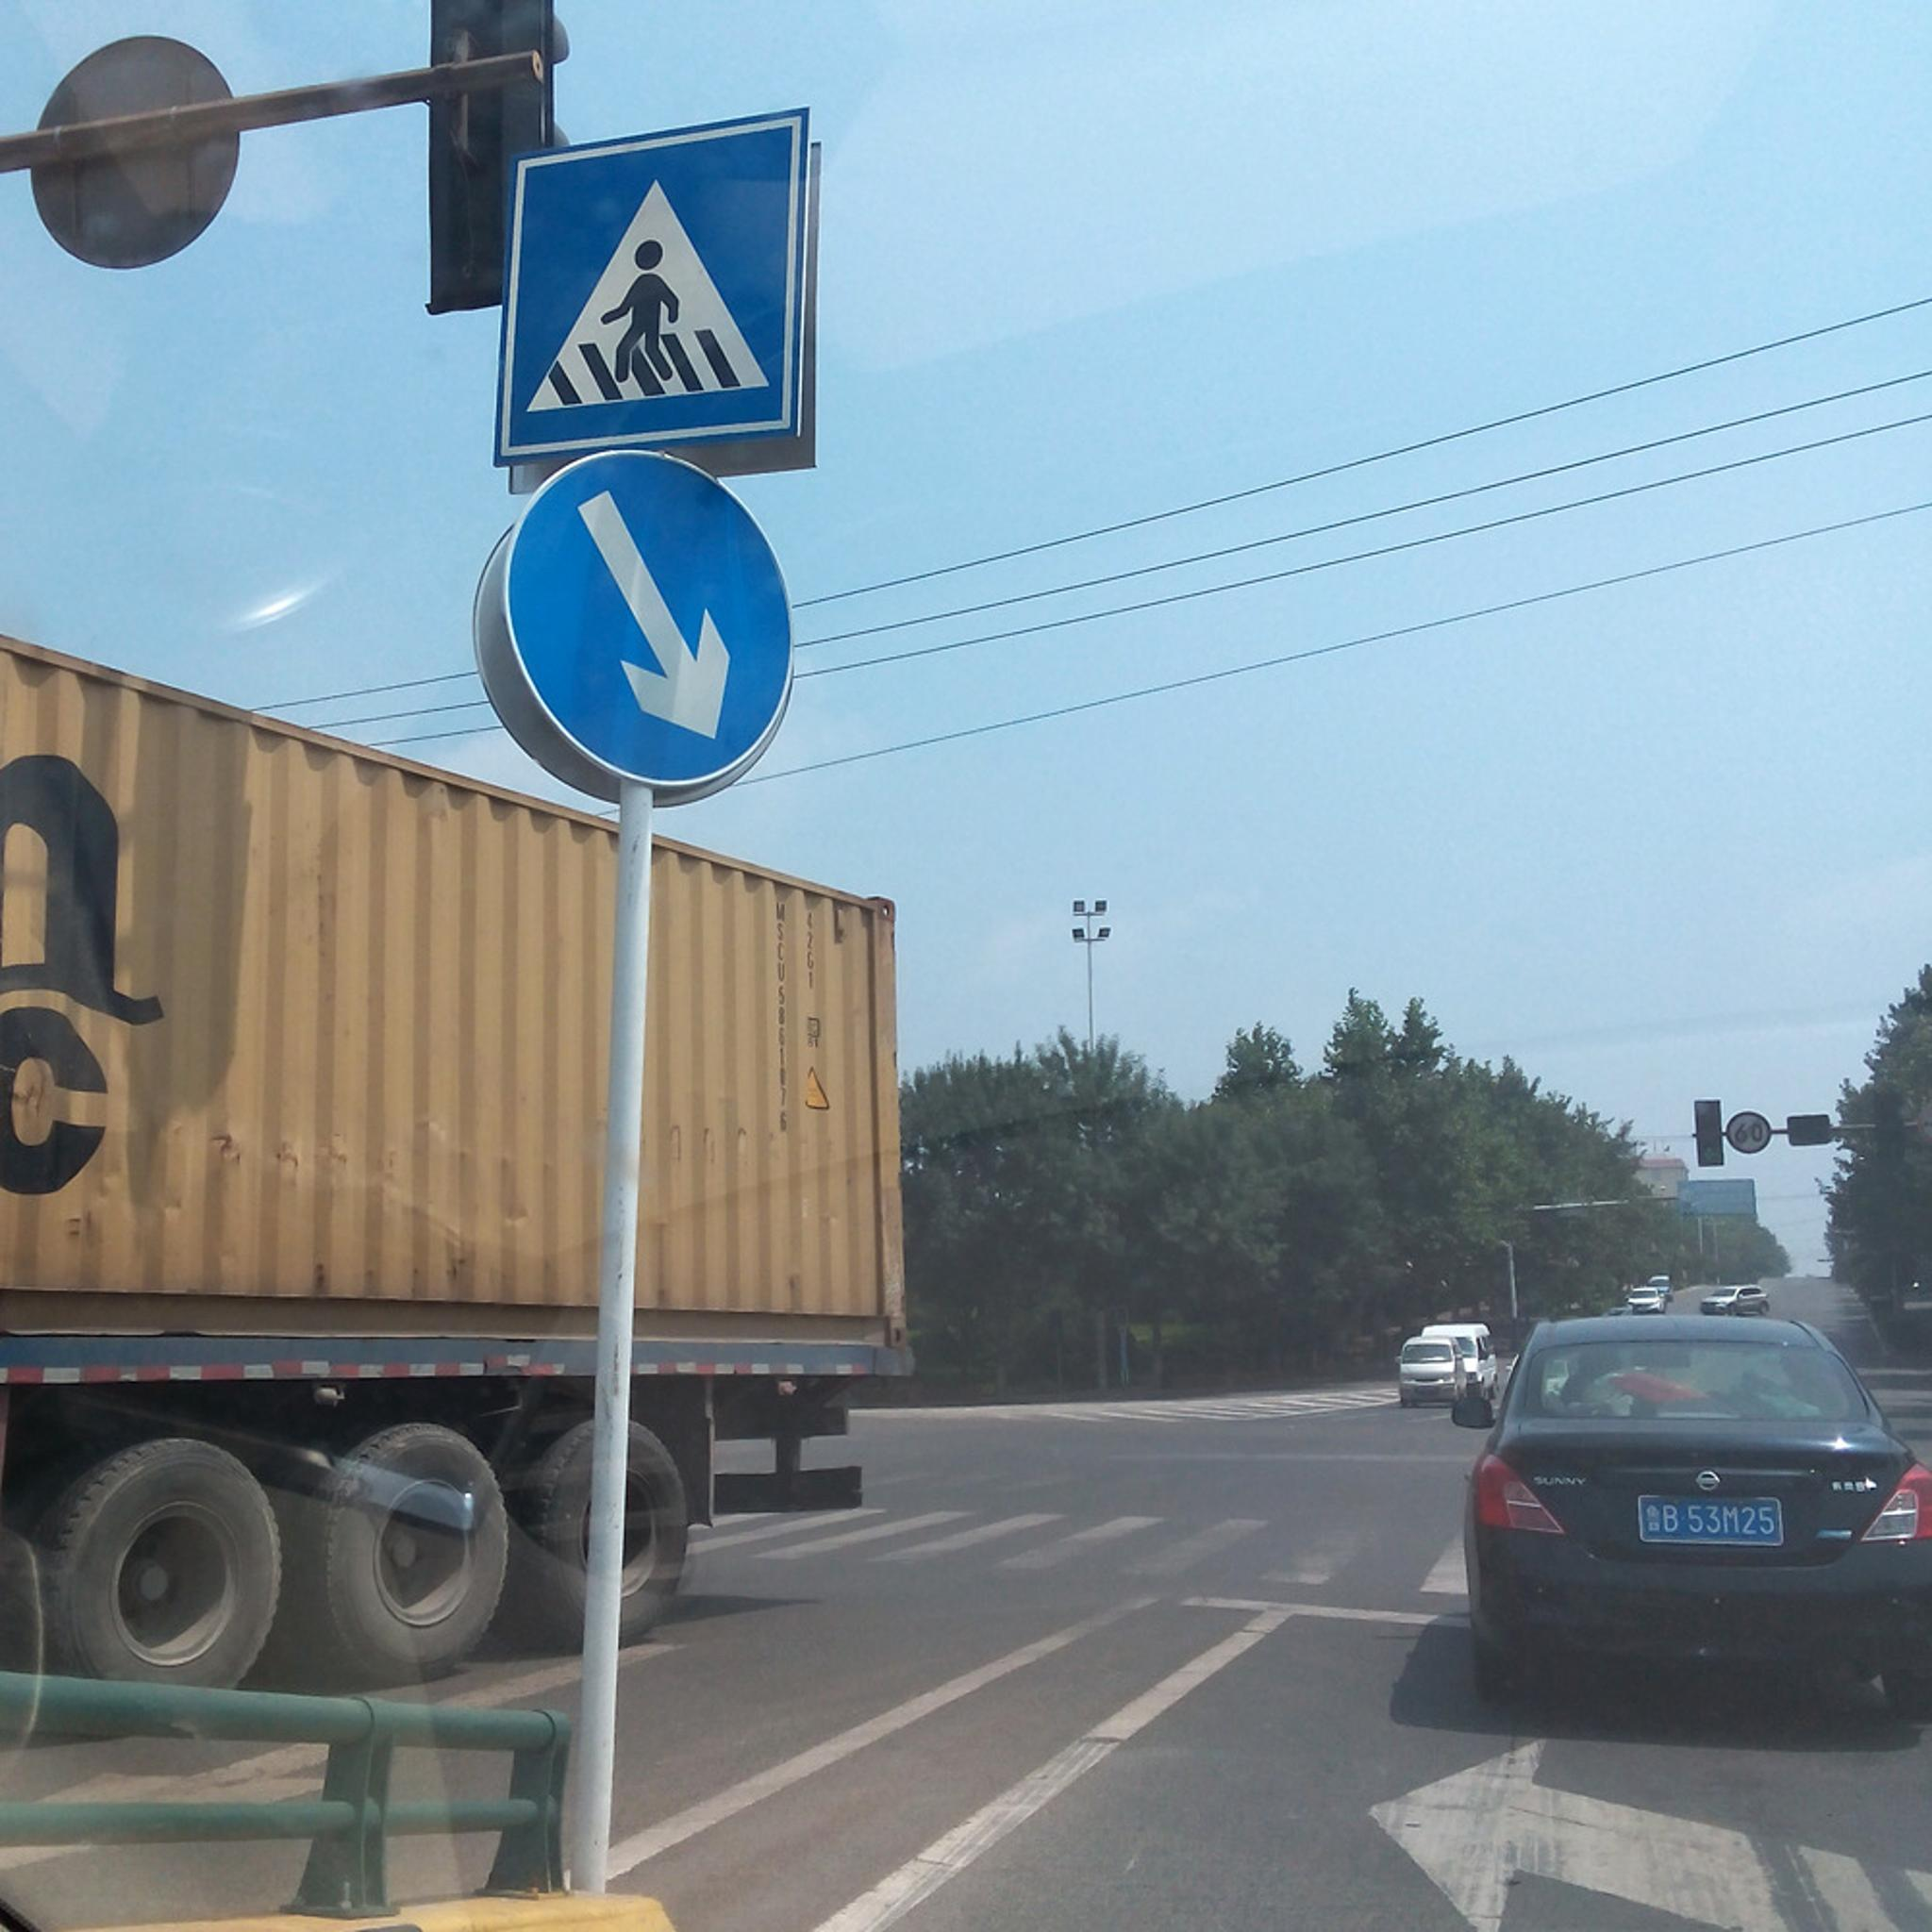i5: (504, 456, 794, 787)
ip: (499, 108, 800, 458)
